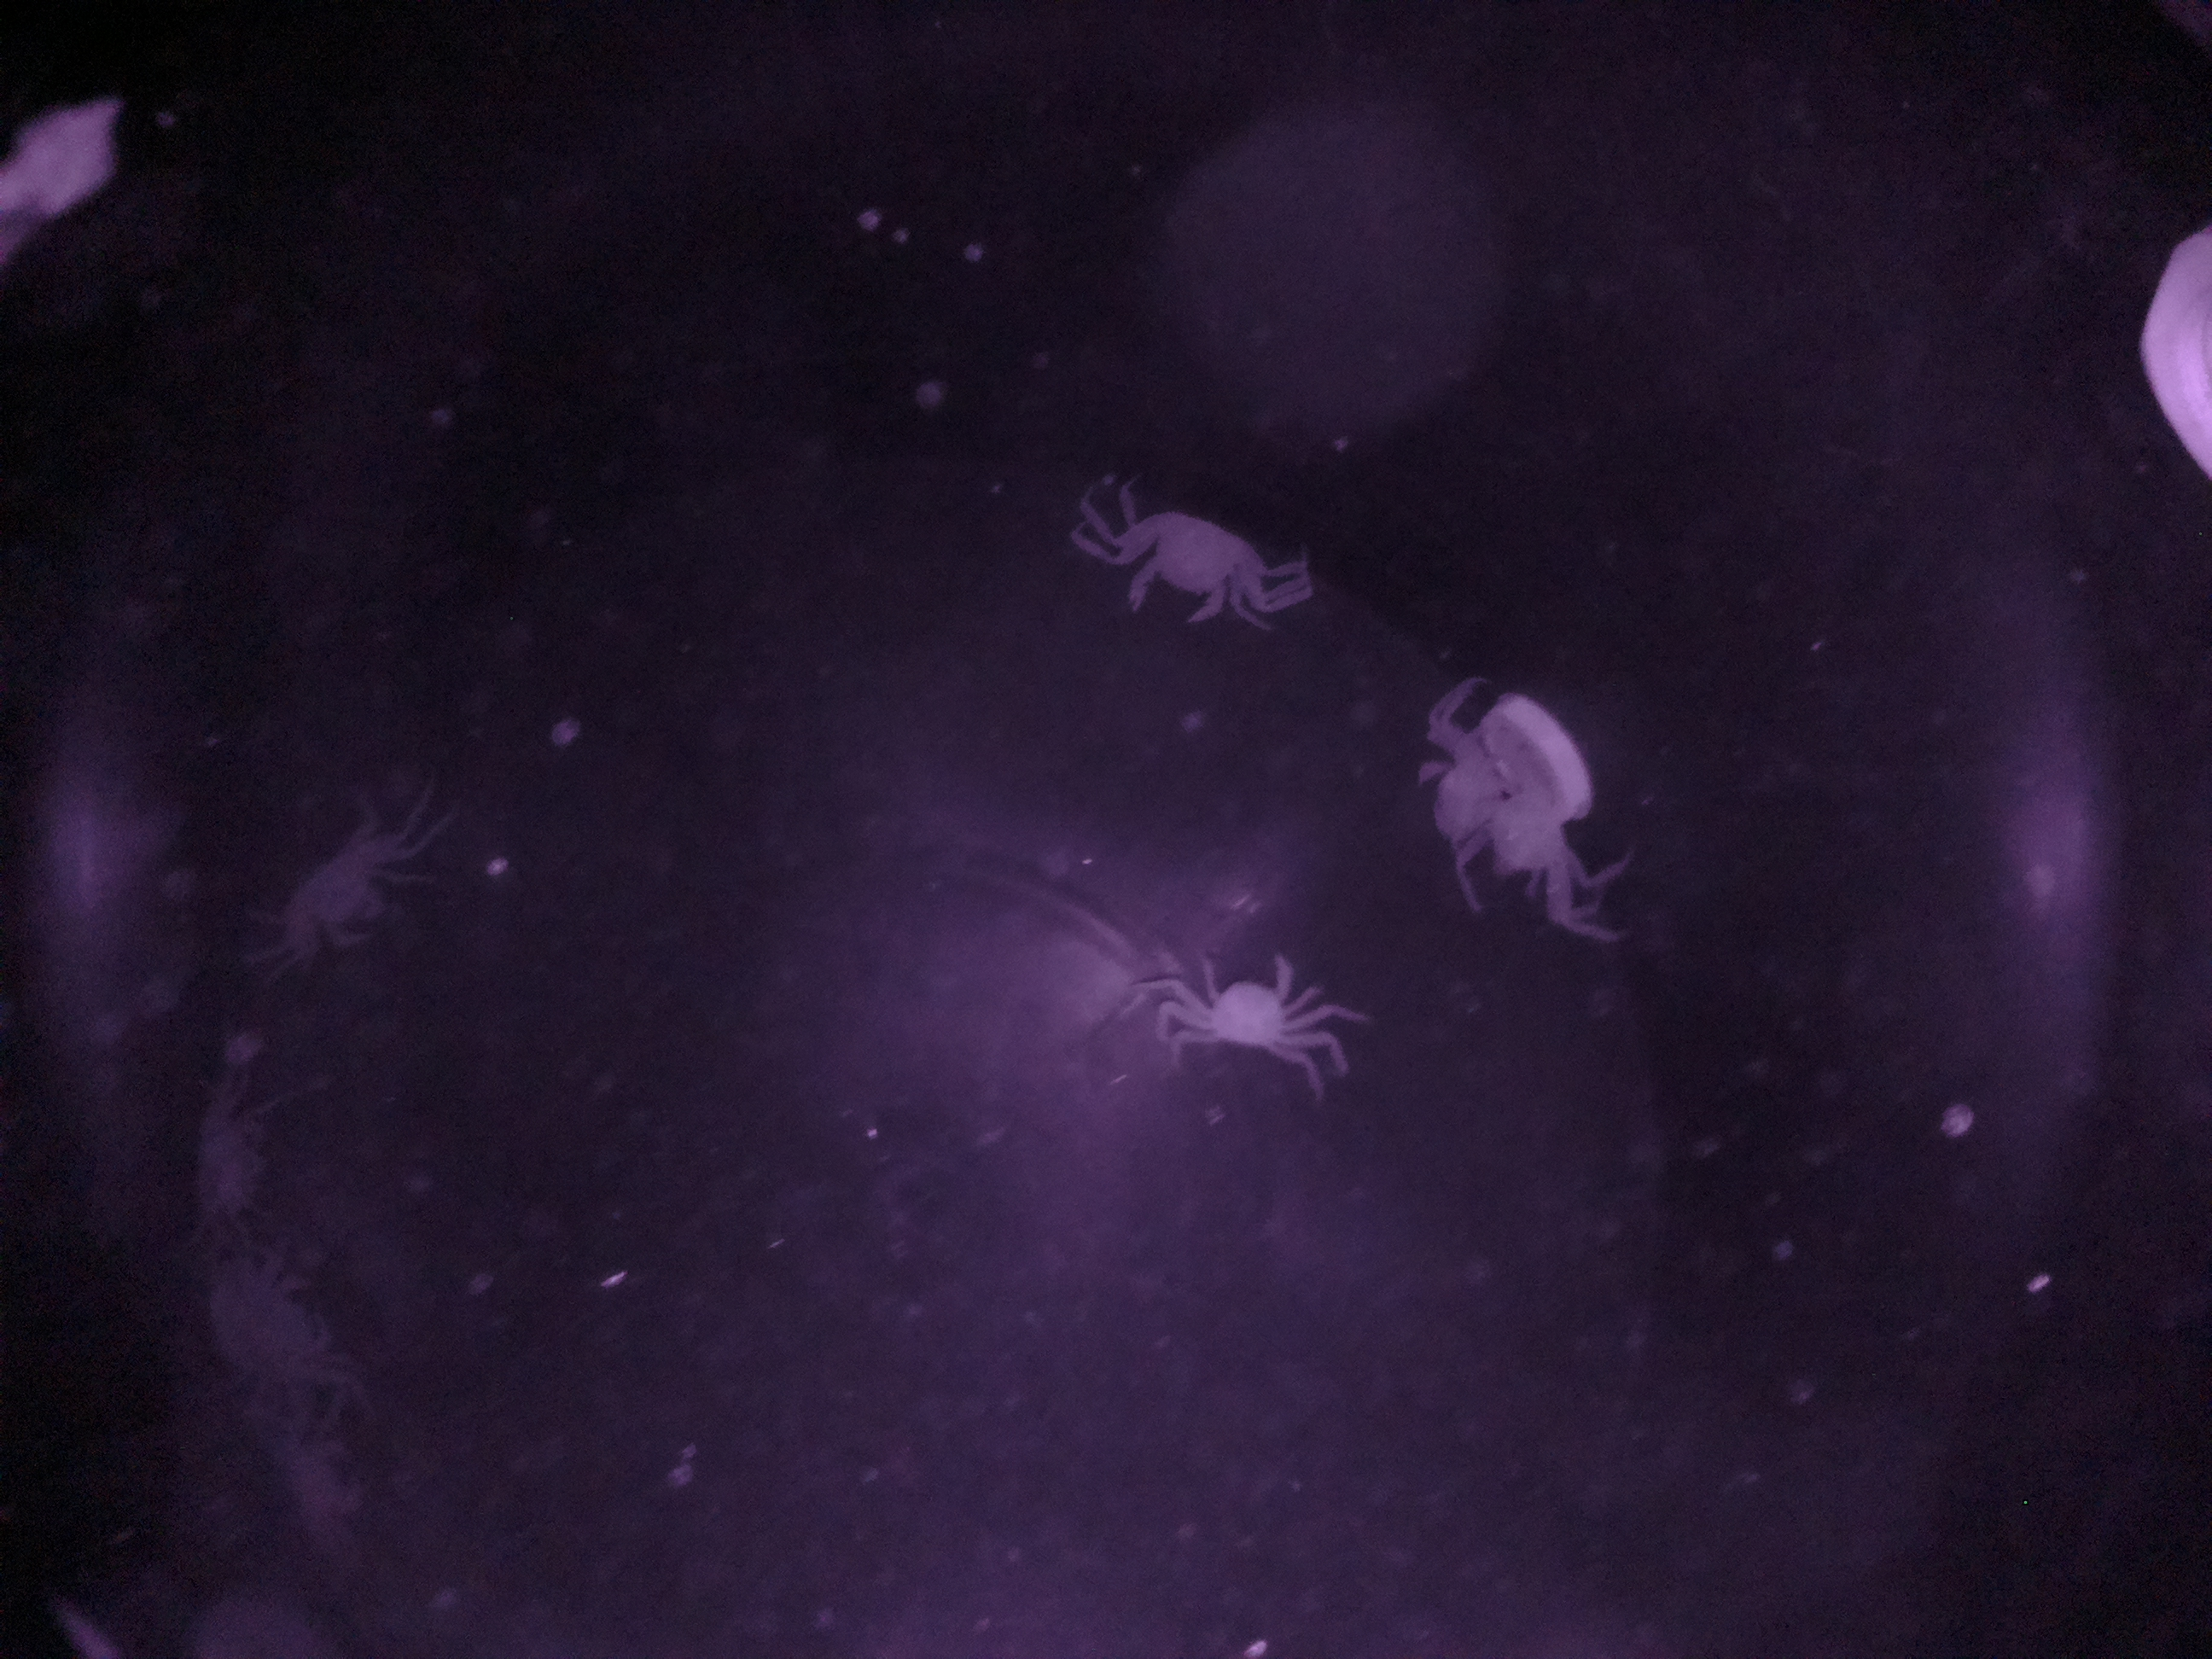Crab: (230, 802, 462, 983), (1111, 910, 1355, 1077), (1078, 484, 1329, 647)
